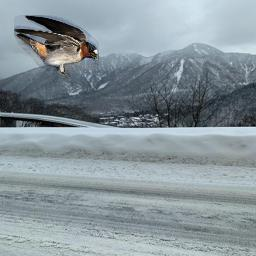Swallow: (14, 15, 99, 78)
